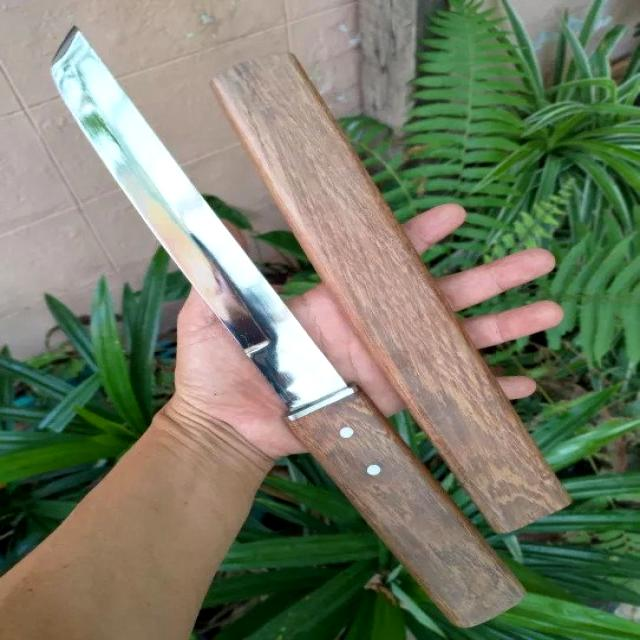short sword: (47, 20, 579, 630)
